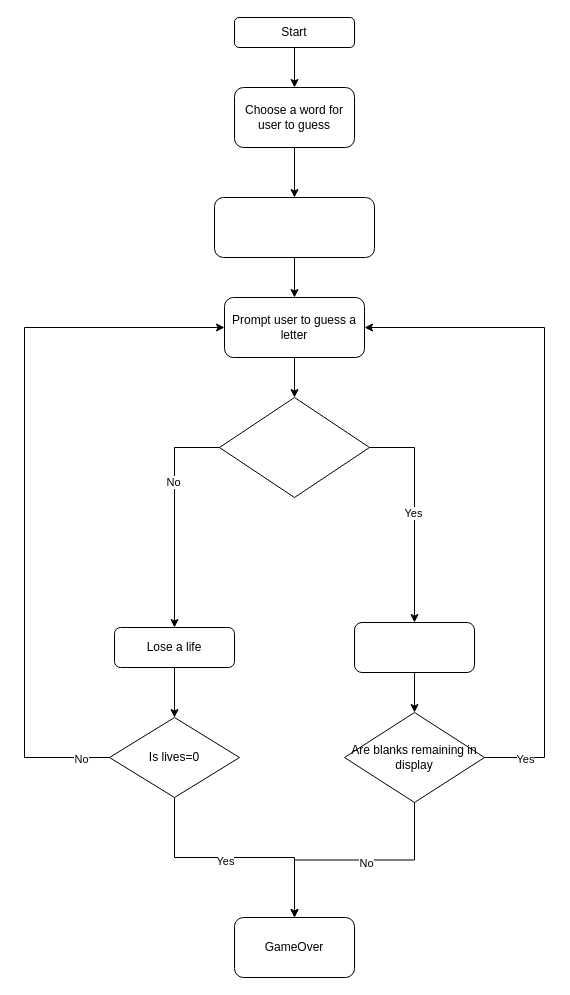
The diagram is 570 pixels wide and 995 high, and some of its shapes have lost their labels. The shapes that lost their labels are listed below. From the top down, each one's centre as x and y in pixels, then its label:
At (294,227): "Generate blanks=len(Chosen_Word)".
At (294,447): "guess letter in the word?".
At (414,647): "Replace the blank with guess".
